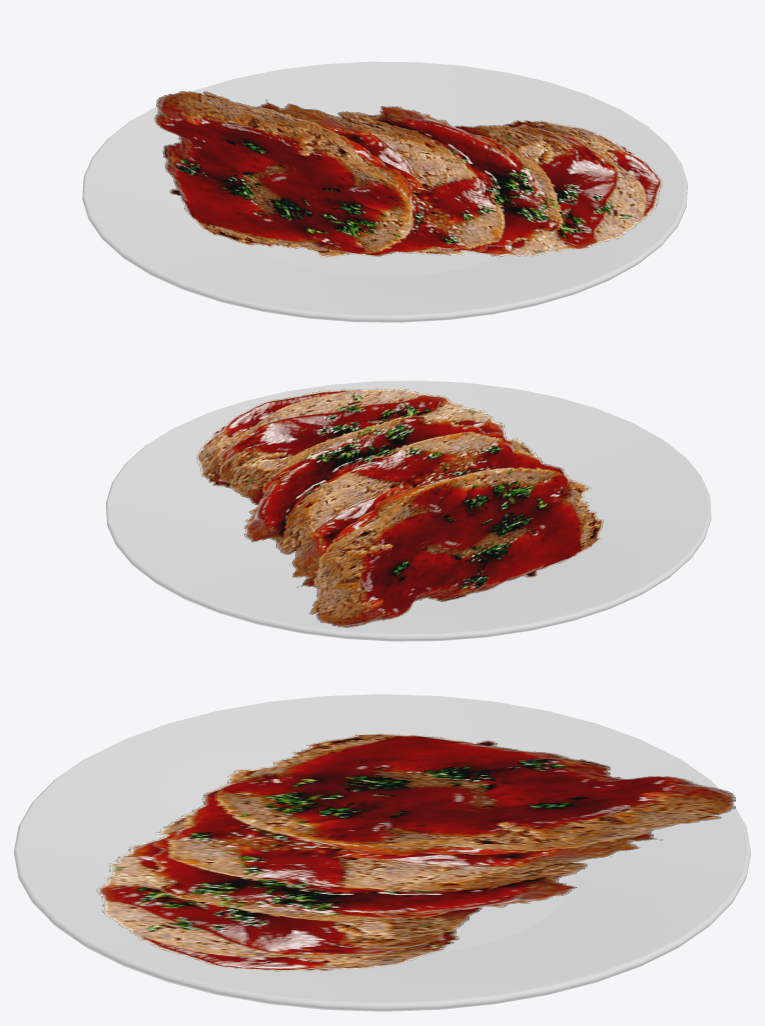
3 views of the same model, one above another, from view 1: azimuth 30°, elevation 25°; view 2: azimuth 150°, elevation 25°; view 3: azimuth 270°, elevation 25° (orthographic). The views are drawn at different scales.
Parts seen in each view (by area): view 1: Plane_0, plate_1; view 2: Plane_0, plate_1; view 3: Plane_0, plate_1.
Boxes of the visible parts, left/top/right/bottom form: Plane_0: left=154, top=91, right=662, bottom=257; plate_1: left=82, top=61, right=687, bottom=322; Plane_0: left=196, top=388, right=603, bottom=627; plate_1: left=106, top=380, right=711, bottom=641; Plane_0: left=96, top=733, right=735, bottom=971; plate_1: left=14, top=694, right=750, bottom=1011.
Bounding box in the file's own units: 135 × 10.99 × 135.
